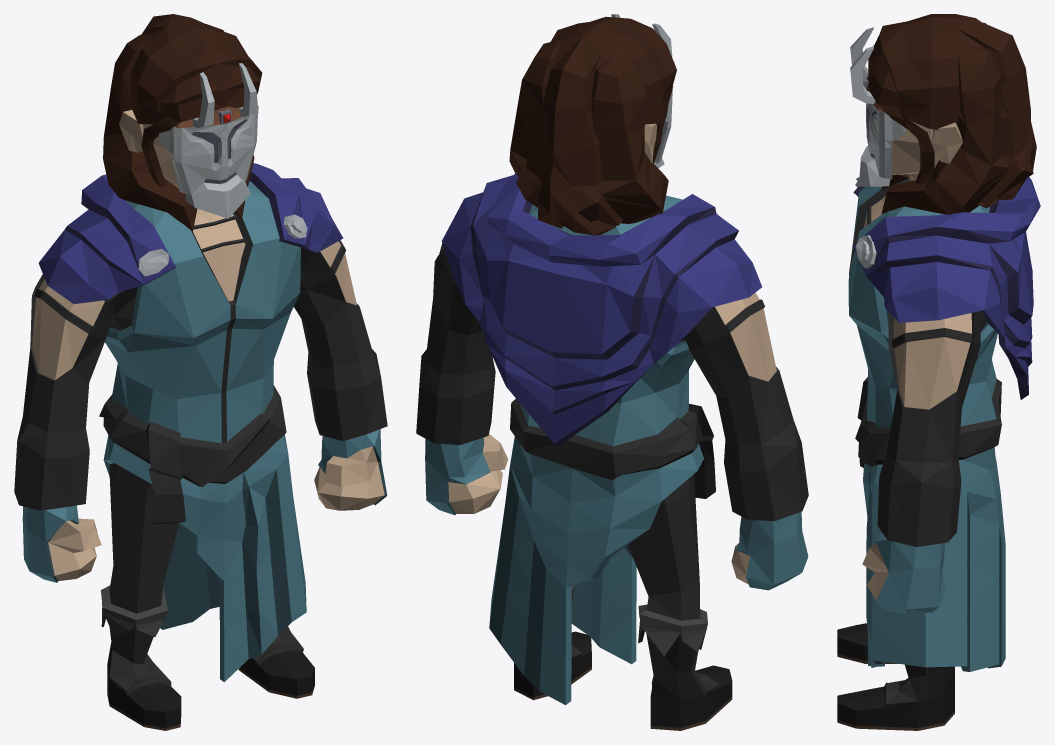
File: PriestDuskIdle.dae
3 views of the same model, side by side, from view 1: azimuth 30°, elevation 25°; view 2: azimuth 150°, elevation 25°; view 3: azimuth 270°, elevation 25° (orthographic). The views are drawn at different scales.
Parts seen in each view (by area): view 1: PriestDusk; view 2: PriestDusk; view 3: PriestDusk.
Part boxes in pixels (x1,y1,x2,y2): PriestDusk: [14, 14, 387, 730]; PriestDusk: [416, 14, 808, 730]; PriestDusk: [837, 14, 1040, 730].
Size of the model in its own units: 5.28 by 2.5 by 9.06.
